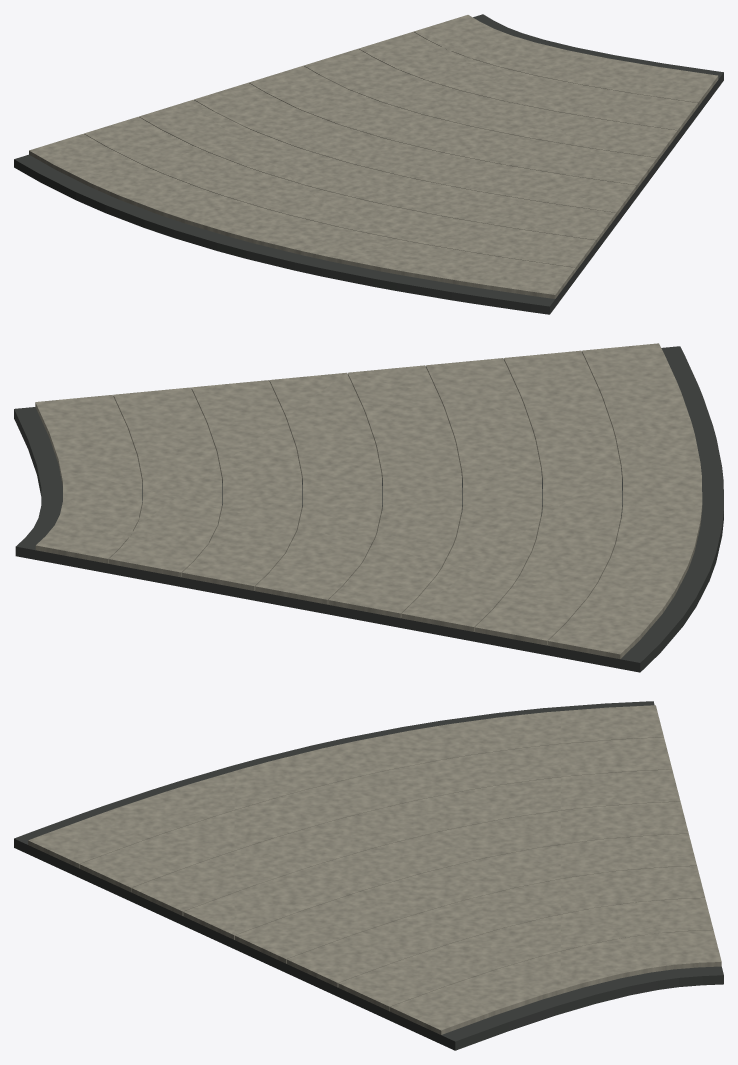
The model's file is track_island_02.glb.
3 renders of one model, top to bottom at view 1: azimuth 30°, elevation 25°; view 2: azimuth 150°, elevation 25°; view 3: azimuth 270°, elevation 25°, orthographic. The views are drawn at different scales.
Parts seen in each view (by area): view 1: roman_concrete, basalt; view 2: roman_concrete, basalt; view 3: roman_concrete, basalt.
Boxes of the visible parts, bbox=[...] form: roman_concrete: bbox=[29, 15, 718, 298]; basalt: bbox=[14, 14, 723, 314]; roman_concrete: bbox=[35, 343, 702, 659]; basalt: bbox=[14, 346, 723, 672]; roman_concrete: bbox=[28, 705, 721, 1034]; basalt: bbox=[14, 701, 723, 1050].
Bounding box in the file's own units: 1265 × 24 × 1114.
Materials: 2 (1 with a texture image).
